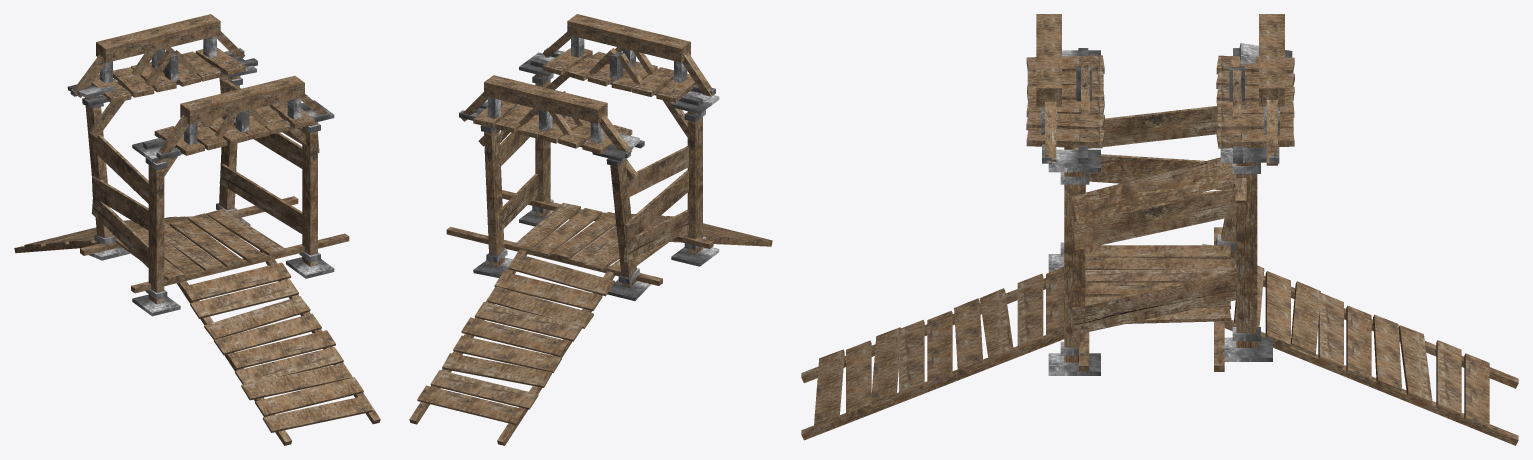
File: union_detail2.FBX
3 renders of one model, left to right at view 1: azimuth 30°, elevation 25°; view 2: azimuth 150°, elevation 25°; view 3: azimuth 270°, elevation 25°, orthographic. The views are drawn at different scales.
Parts seen in each view (by area): view 1: union_detail004, Box021, Box017, union_detail003, Box020, Box015, Box016, Box019, union_detail005, Box018; view 2: union_detail005, Box017, Box021, union_detail003, Box020, Box015, Box019, Box018, Box016, union_detail004; view 3: Box020, union_detail004, union_detail005, Box021, Box017, union_detail003, Box018, Box016, Box019.
Boxes of the visible parts, left/top/right/bottom form: union_detail004: left=177, top=250, right=380, bottom=445; Box021: left=70, top=14, right=257, bottom=138; Box017: left=143, top=75, right=329, bottom=176; union_detail003: left=80, top=196, right=349, bottom=293; Box020: left=91, top=79, right=319, bottom=267; Box015: left=132, top=138, right=180, bottom=316; Box016: left=286, top=100, right=334, bottom=278; Box019: left=67, top=84, right=130, bottom=260; union_detail005: left=14, top=216, right=191, bottom=253; Box018: left=216, top=56, right=256, bottom=225; union_detail005: left=409, top=249, right=615, bottom=445; Box017: left=530, top=14, right=715, bottom=137; Box021: left=459, top=75, right=644, bottom=181; union_detail003: left=446, top=190, right=713, bottom=285; Box020: left=497, top=105, right=688, bottom=262; Box015: left=671, top=90, right=719, bottom=266; Box019: left=592, top=133, right=650, bottom=300; Box018: left=473, top=101, right=512, bottom=277; Box016: left=519, top=52, right=554, bottom=226; union_detail004: left=569, top=212, right=772, bottom=246; Box020: left=1071, top=106, right=1236, bottom=334; union_detail004: left=801, top=267, right=1064, bottom=440; union_detail005: left=1224, top=264, right=1518, bottom=445; Box021: left=1216, top=14, right=1294, bottom=202; Box017: left=1026, top=14, right=1104, bottom=192; union_detail003: left=1079, top=227, right=1234, bottom=371; Box018: left=1220, top=147, right=1272, bottom=361; Box016: left=1048, top=149, right=1100, bottom=375; Box019: left=1202, top=43, right=1292, bottom=263.
Bounding box in the file's own units: 125 × 155 × 275.
